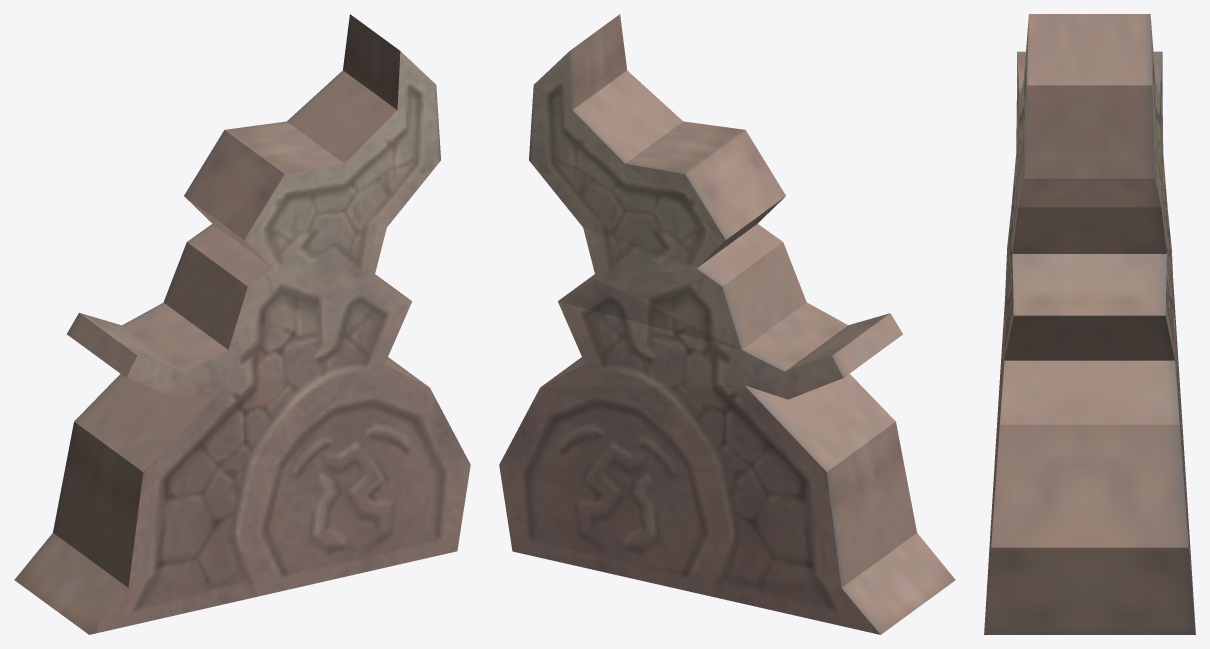
The model's file is yangchunbaixue_shibi.FBX.
3 views of the same model, side by side, from view 1: azimuth 30°, elevation 25°; view 2: azimuth 150°, elevation 25°; view 3: azimuth 270°, elevation 25° (orthographic). The views are drawn at different scales.
Parts seen in each view (by area): view 1: Object05; view 2: Object05; view 3: Object05.
Part boxes in pixels (x1,y1,x2,y2): Object05: (14,14,470,634); Object05: (499,14,955,634); Object05: (984,14,1195,634).
Size of the model in its own units: 5.51 by 6.91 by 2.22.
